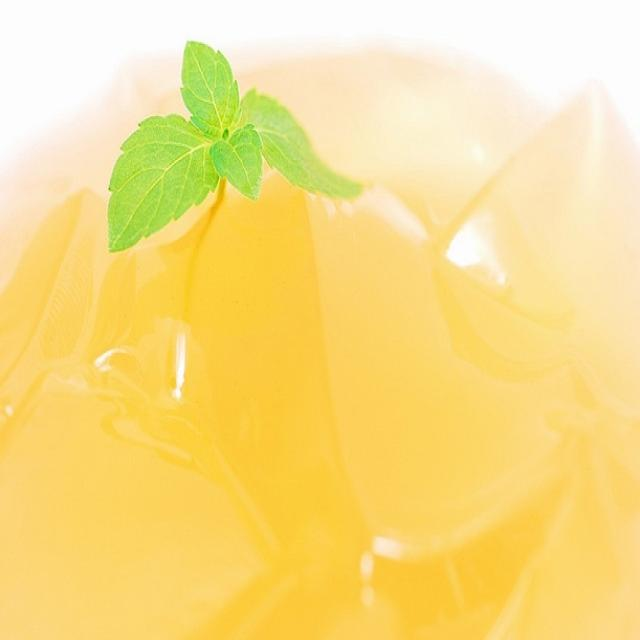蛋糕甜品: (16, 39, 612, 618)
